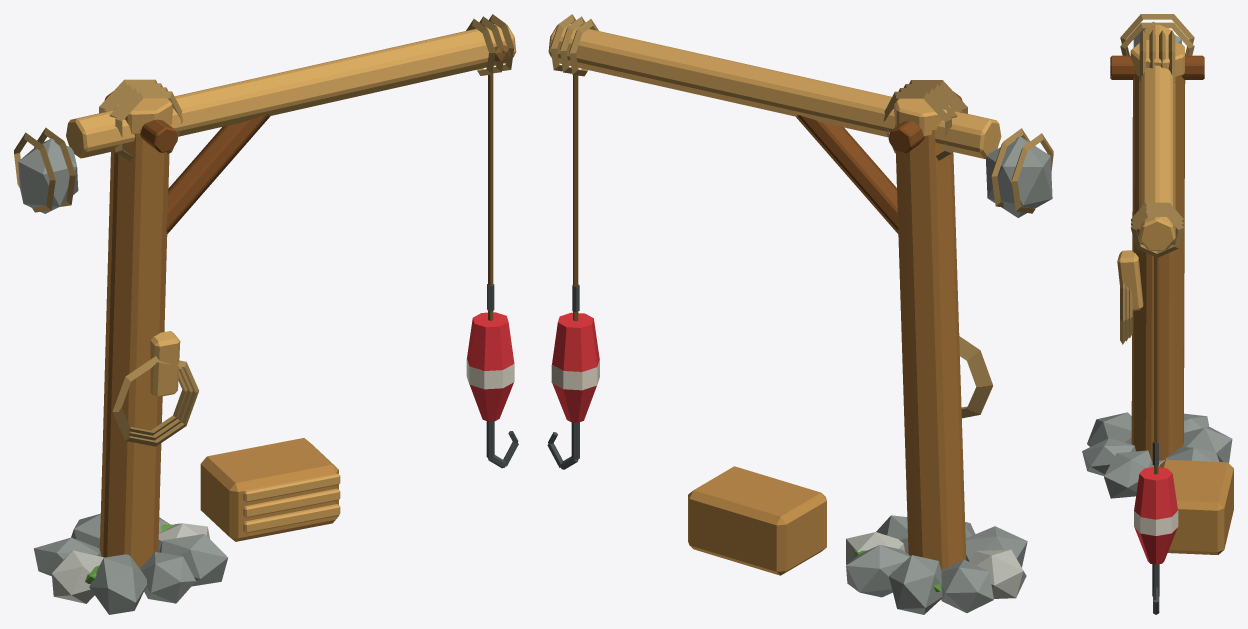
Rendered from fishing_lever_rig.glb.
3 views of the same model, side by side, from view 1: azimuth 30°, elevation 25°; view 2: azimuth 150°, elevation 25°; view 3: azimuth 270°, elevation 25° (orthographic). The views are drawn at different scales.
Visible parts, largest first — view 1: Main_Post, Fishing_Arm, Bait_Box, Diagonal_Brace, Counterweight_Stone, Base_Stone_6, Fishing_Float_Red_Top, Base_Stone_8, Base_Stone_7, Base_Stone_5, Rope_Cleat, Spare_Rope_Coil_3 (+14 smaller); view 2: Main_Post, Fishing_Arm, Bait_Box, Diagonal_Brace, Counterweight_Stone, Base_Stone_3, Fishing_Float_Red_Top, Base_Stone_2, Base_Stone_4, Base_Stone_5, Main_Fishing_Line, Base_Stone_6 (+7 smaller); view 3: Main_Post, Fishing_Arm, Bait_Box, Fishing_Float_Red_Top, Base_Stone_8, Pivot_Axle, Base_Stone_7, Base_Stone_3, Base_Stone_6, Rope_Cleat, Main_Fishing_Line, Post_Cut_Cap (+13 smaller).
Part boxes in pixels (x1,y1,x2,y2): Main_Post: (99, 128, 169, 568); Fishing_Arm: (66, 24, 516, 158); Bait_Box: (200, 438, 338, 541); Diagonal_Brace: (166, 114, 270, 233); Counterweight_Stone: (18, 138, 78, 213); Base_Stone_6: (89, 554, 146, 614); Fishing_Float_Red_Top: (467, 312, 514, 370); Base_Stone_8: (159, 534, 227, 586); Base_Stone_7: (140, 552, 195, 603); Base_Stone_5: (51, 550, 104, 603); Rope_Cleat: (150, 331, 180, 397); Spare_Rope_Coil_3: (112, 356, 199, 446); Main_Post: (895, 125, 966, 570); Fishing_Arm: (548, 24, 1001, 159); Bait_Box: (688, 466, 826, 575); Diagonal_Brace: (796, 115, 898, 233); Counterweight_Stone: (986, 136, 1052, 217); Base_Stone_3: (889, 555, 942, 614); Fishing_Float_Red_Top: (552, 312, 599, 371); Base_Stone_2: (846, 545, 910, 597); Base_Stone_4: (941, 559, 993, 612); Base_Stone_5: (970, 549, 1026, 598); Main_Fishing_Line: (573, 75, 578, 321); Base_Stone_6: (965, 526, 1027, 567); Main_Post: (1131, 69, 1185, 461); Fishing_Arm: (1139, 24, 1175, 250); Bait_Box: (1159, 459, 1233, 554); Fishing_Float_Red_Top: (1134, 467, 1177, 519); Base_Stone_8: (1104, 450, 1151, 498); Pivot_Axle: (1110, 55, 1204, 79); Base_Stone_7: (1082, 438, 1135, 475); Base_Stone_3: (1182, 427, 1232, 462); Base_Stone_6: (1087, 412, 1131, 446); Rope_Cleat: (1117, 250, 1143, 310); Main_Fishing_Line: (1154, 256, 1158, 474); Post_Cut_Cap: (1130, 39, 1184, 76).
Size of the model in its own units: 3.73 by 3.6 by 1.1.
